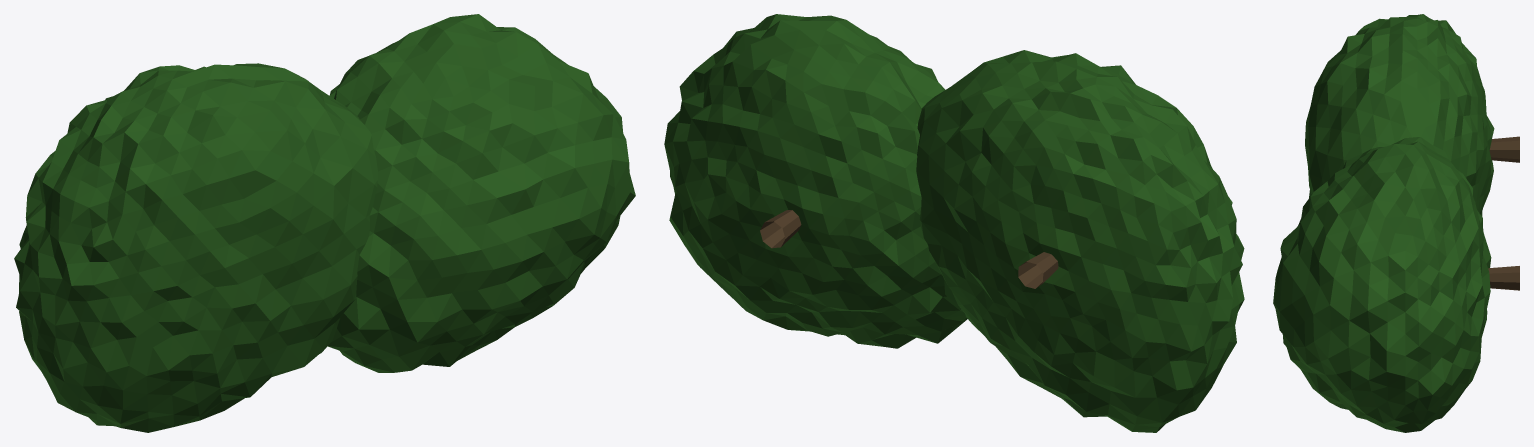
Rendered from citrus_run2_c.obj.
The picture shows the model from 3 angles, left to right: view 1: azimuth 30°, elevation 25°; view 2: azimuth 150°, elevation 25°; view 3: azimuth 270°, elevation 25°; orthographic projection. The views are drawn at different scales.
Parts seen in each view (by area): view 1: canopy; view 2: canopy, trunk; view 3: canopy, trunk.
Boxes of the visible parts, left/top/right/bottom form: canopy: left=14, top=14, right=635, bottom=432; canopy: left=664, top=14, right=1244, bottom=432; trunk: left=760, top=210, right=1058, bottom=288; canopy: left=1273, top=14, right=1494, bottom=432; trunk: left=1488, top=136, right=1519, bottom=290.
Size of the model in its own units: 6.71 by 3.82 by 2.87.
